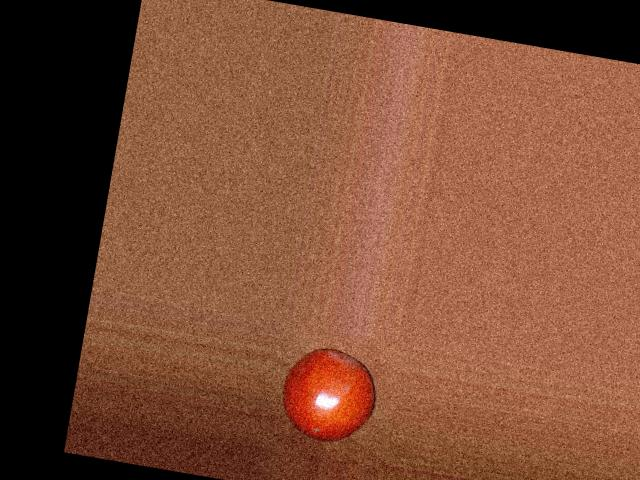tomato: (274, 342, 382, 449)
